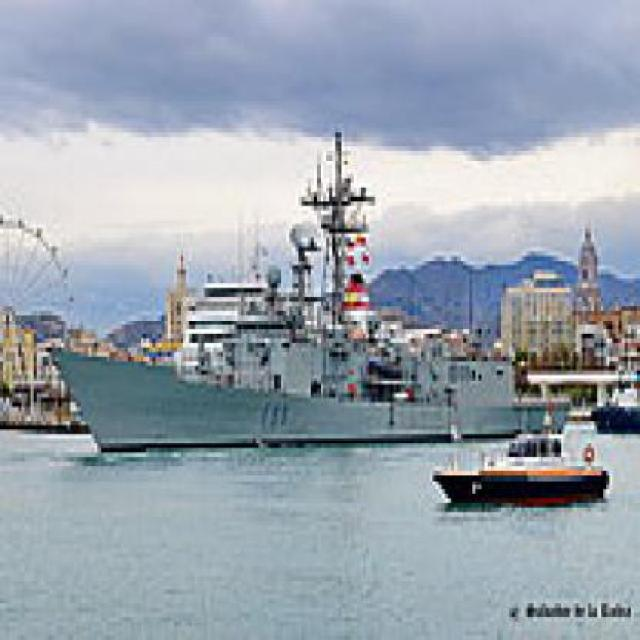warship2: (40, 166, 580, 477)
